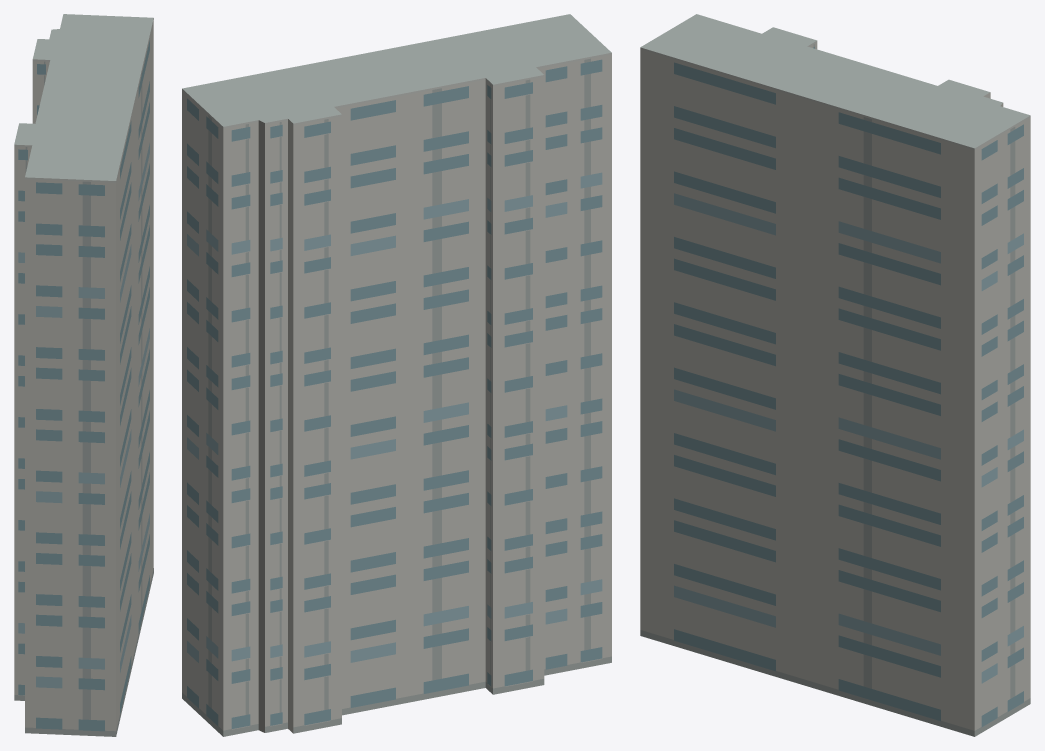
Rendered from residential-7af38ba5-61c8-4447-a67c-ef24912f4e41.glb.
3 views of the same model, side by side, from view 1: azimuth 30°, elevation 25°; view 2: azimuth 150°, elevation 25°; view 3: azimuth 270°, elevation 25° (orthographic). The views are drawn at different scales.
Visible parts, largest first — view 1: residential-7af38ba5-61c8-4447-a67c-ef24912f4e41.tmp; view 2: residential-7af38ba5-61c8-4447-a67c-ef24912f4e41.tmp; view 3: residential-7af38ba5-61c8-4447-a67c-ef24912f4e41.tmp.
Part boxes in pixels (<box>): residential-7af38ba5-61c8-4447-a67c-ef24912f4e41.tmp: <box>14,14,153,736</box>; residential-7af38ba5-61c8-4447-a67c-ef24912f4e41.tmp: <box>182,14,611,736</box>; residential-7af38ba5-61c8-4447-a67c-ef24912f4e41.tmp: <box>640,14,1030,736</box>.
Size of the model in its own units: 37.25 by 76 by 45.72.
